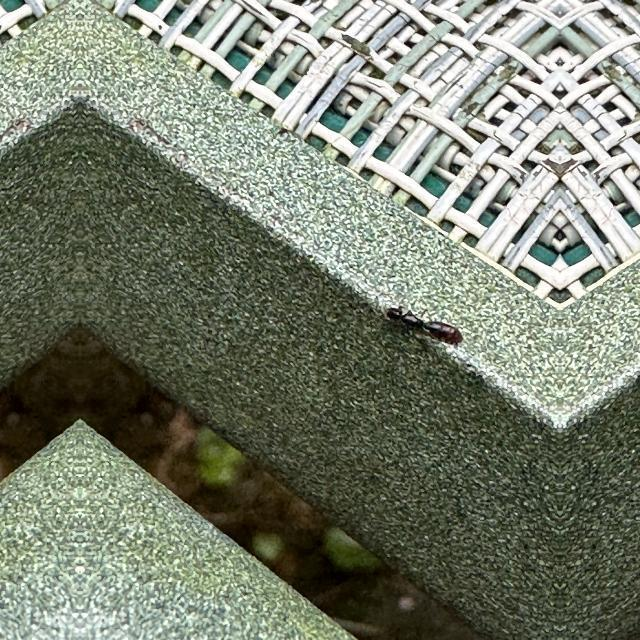Ponera: (376, 303, 468, 347)
